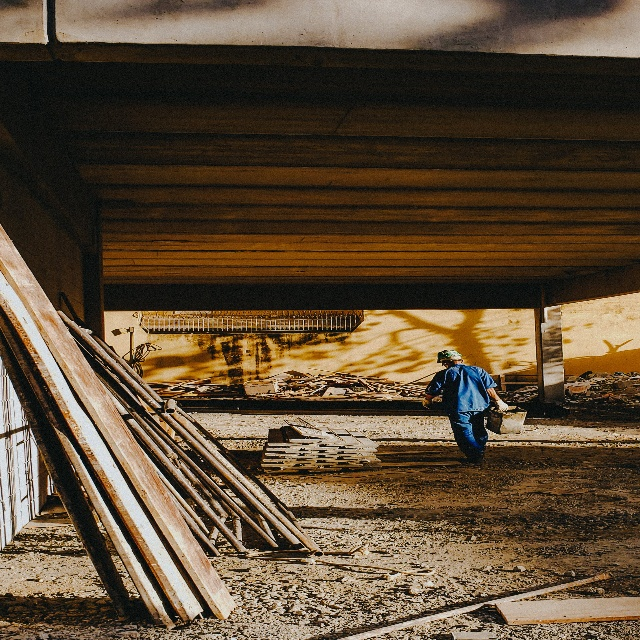Guantes: (493, 397, 508, 412), (422, 398, 432, 409)
